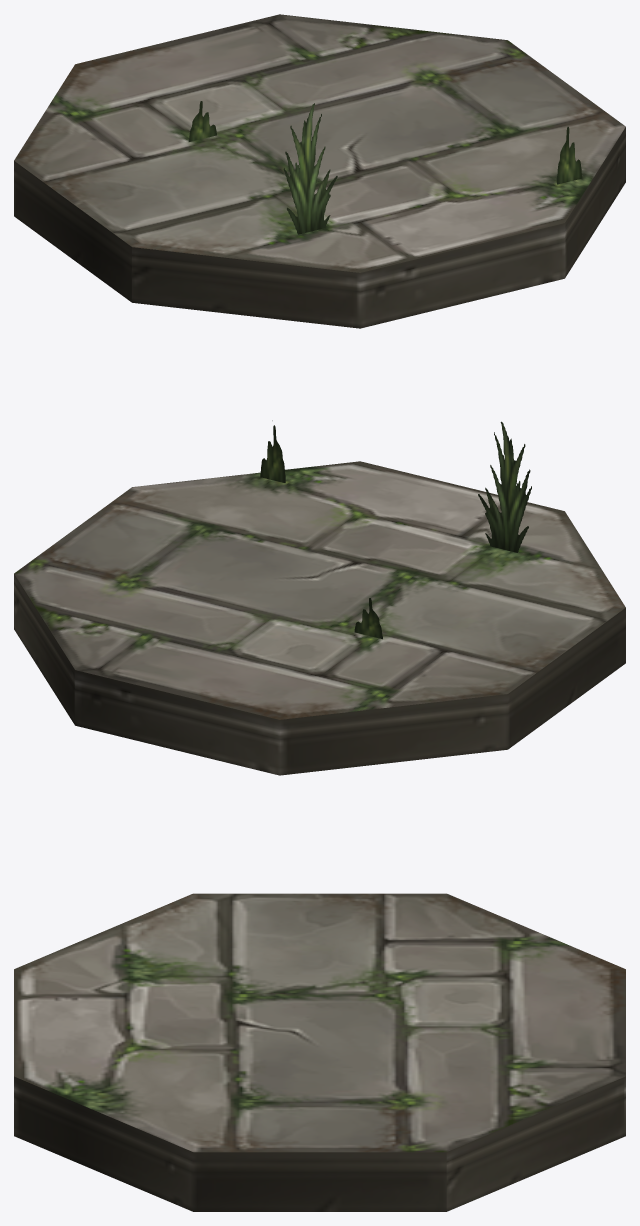
The model's file is Bg_platform.FBX.
3 views of the same model, one above another, from view 1: azimuth 30°, elevation 25°; view 2: azimuth 150°, elevation 25°; view 3: azimuth 270°, elevation 25° (orthographic). The views are drawn at different scales.
Parts seen in each view (by area): view 1: Bg_platform; view 2: Bg_platform; view 3: Bg_platform.
Boxes of the visible parts, x1,y1,x2,y2 form: Bg_platform: [14, 14, 625, 328]; Bg_platform: [14, 420, 625, 775]; Bg_platform: [14, 893, 625, 1211].
Bounding box in the file's own units: 155 × 57.53 × 155.
